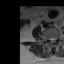CCS_normal: (51, 36, 53, 44)
LFS_normal: (55, 34, 58, 41)
LLS_normal: (53, 36, 55, 43)
RFS_normal: (47, 35, 49, 41)
RLS_normal: (49, 36, 51, 43)
